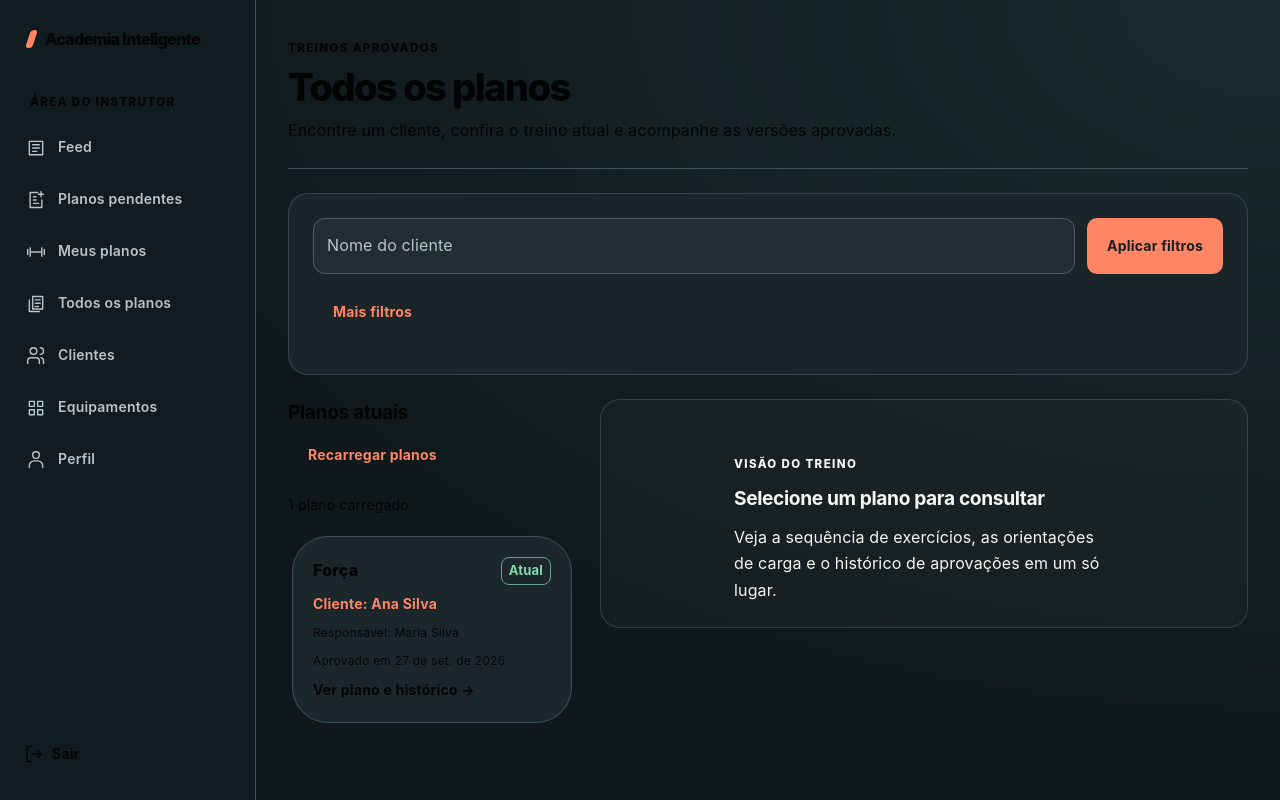
Test: cancel preserves draft and explicit confirmation sends the exact revision
Click the button with aria-label "Ver plano e histórico de Ana Silva" at {"x": 432, "y": 629}, box [292,536,572,723]
(page scrolled)
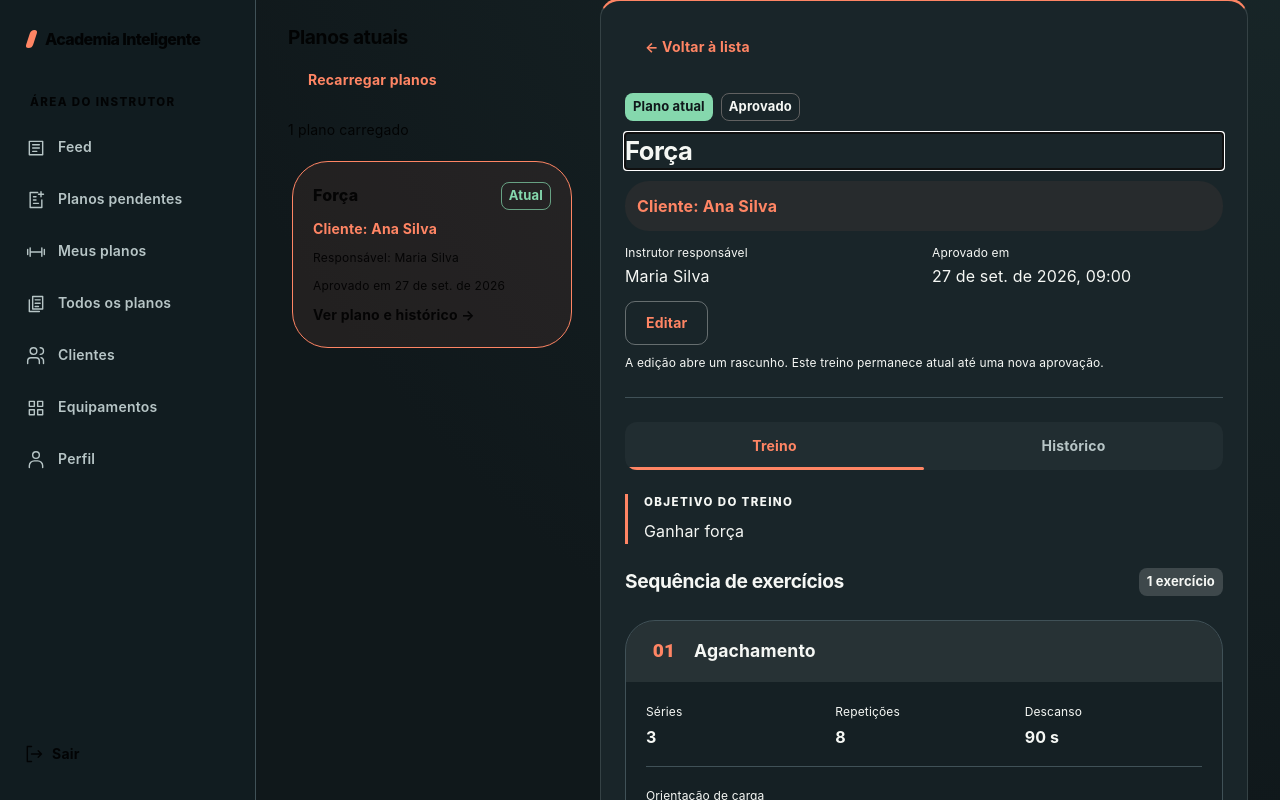
Click the button "Editar" at {"x": 667, "y": 323}, box [625,301,708,345]
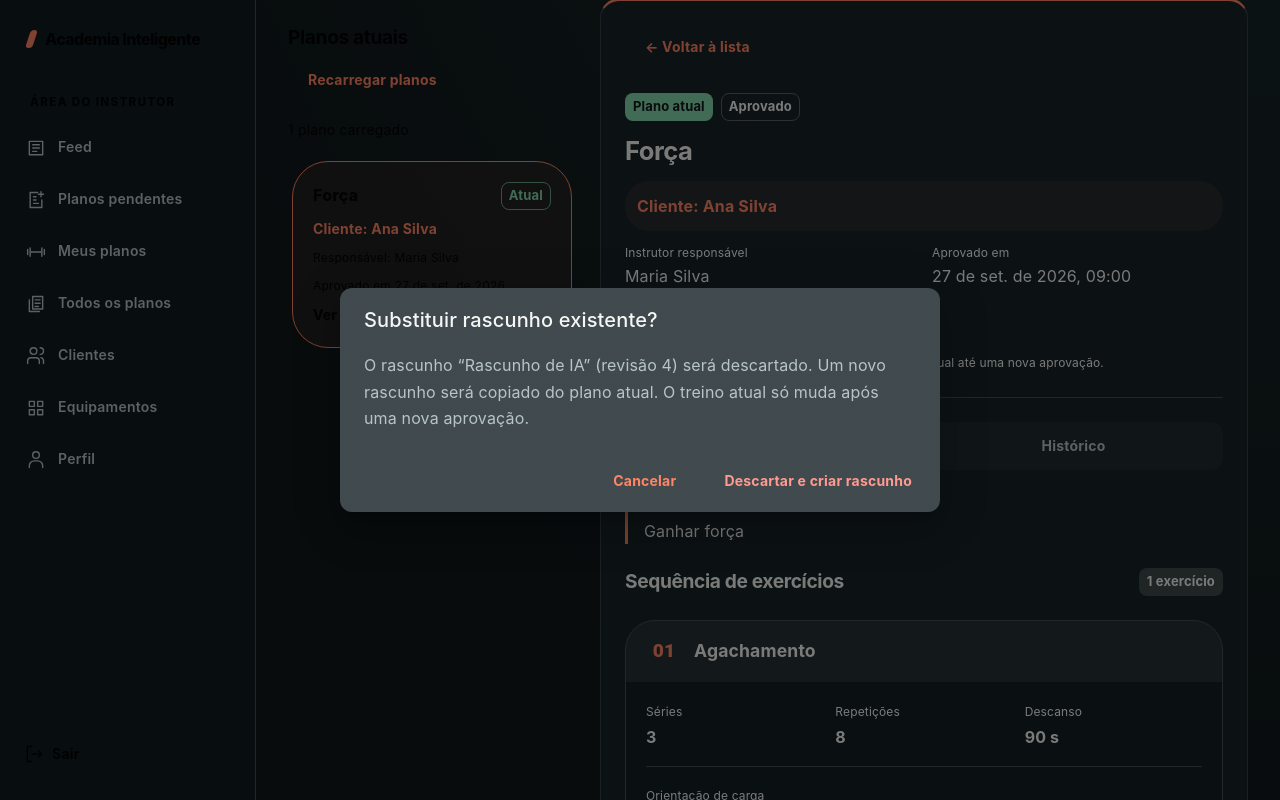
Now the dialog "Substituir rascunho existente?" is shown, box [340,288,940,512]
Click the button "Cancelar" at {"x": 645, "y": 482}, box [593,460,696,504]
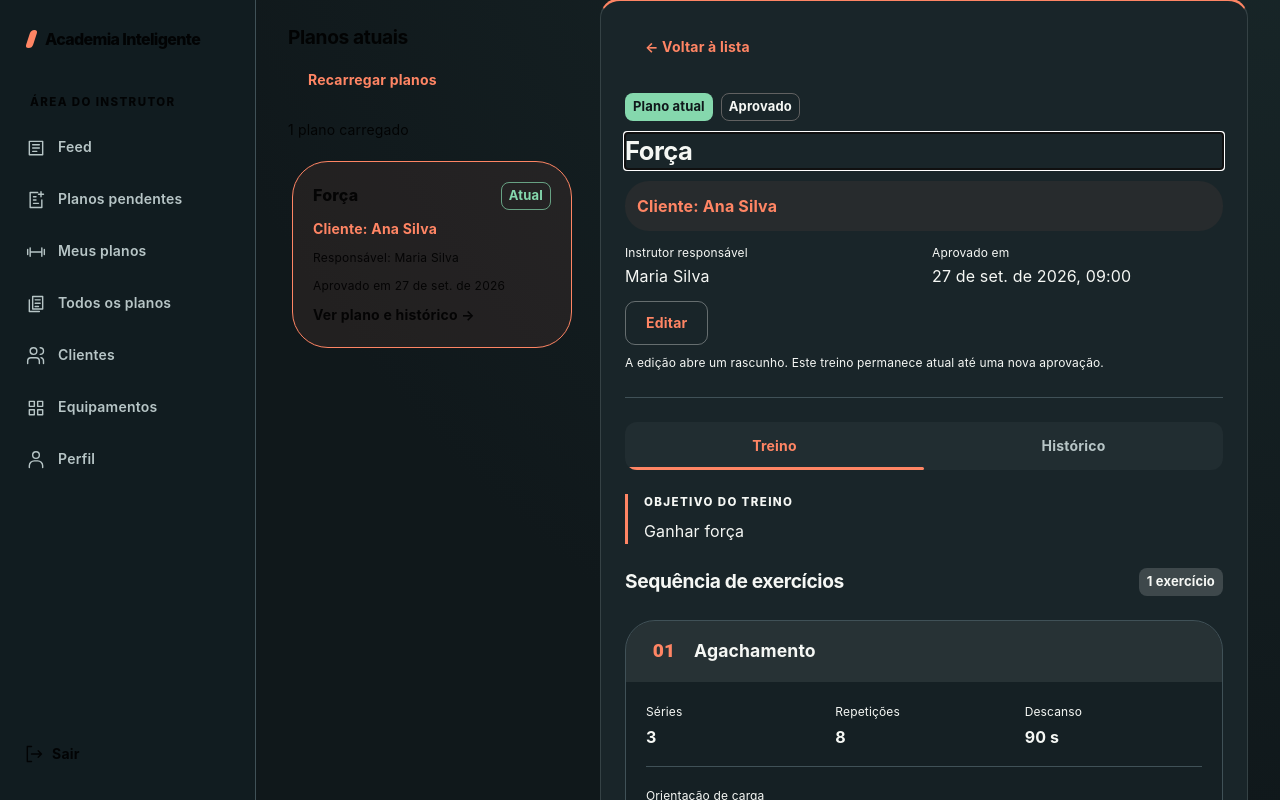
Now the dialog is gone
Click the button "Editar" at {"x": 667, "y": 323}, box [625,301,708,345]
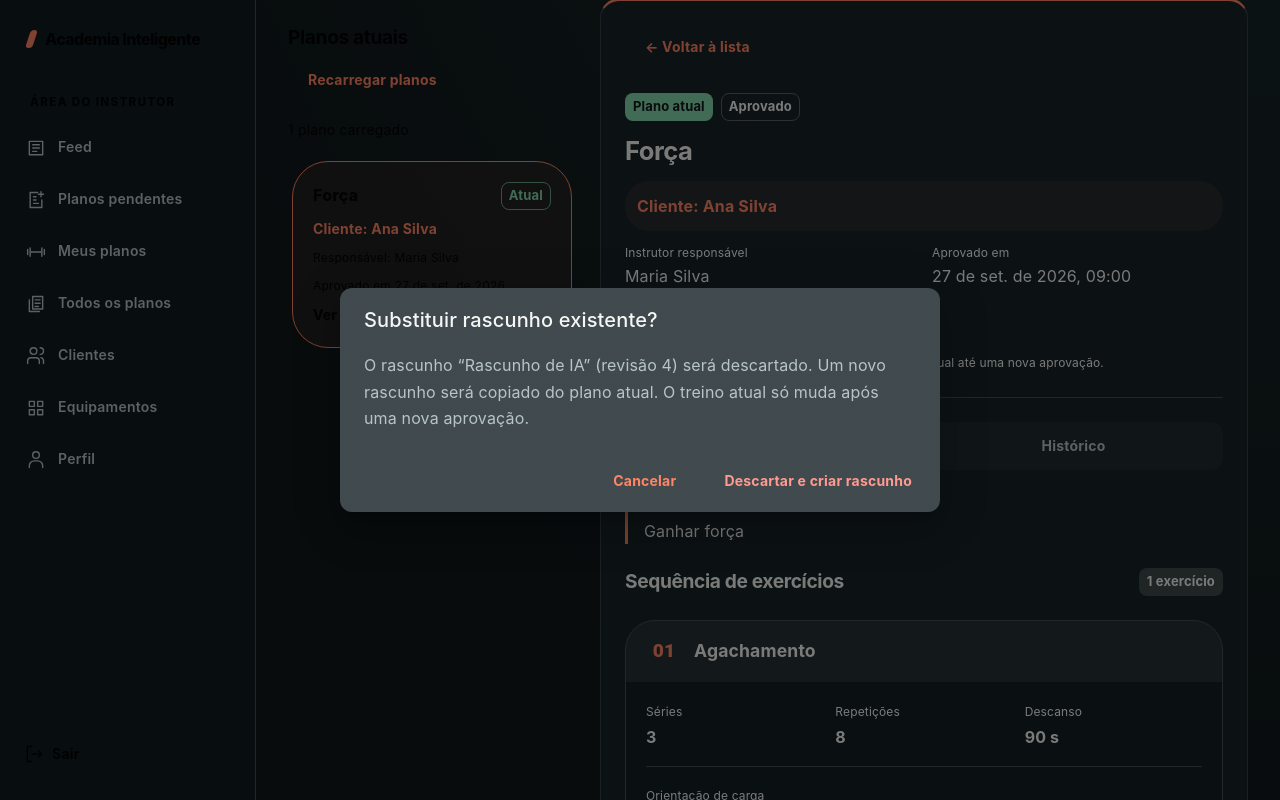
Click the button "Descartar e criar rascunho" at {"x": 818, "y": 482}, box [704,460,932,504]
(page scrolled)
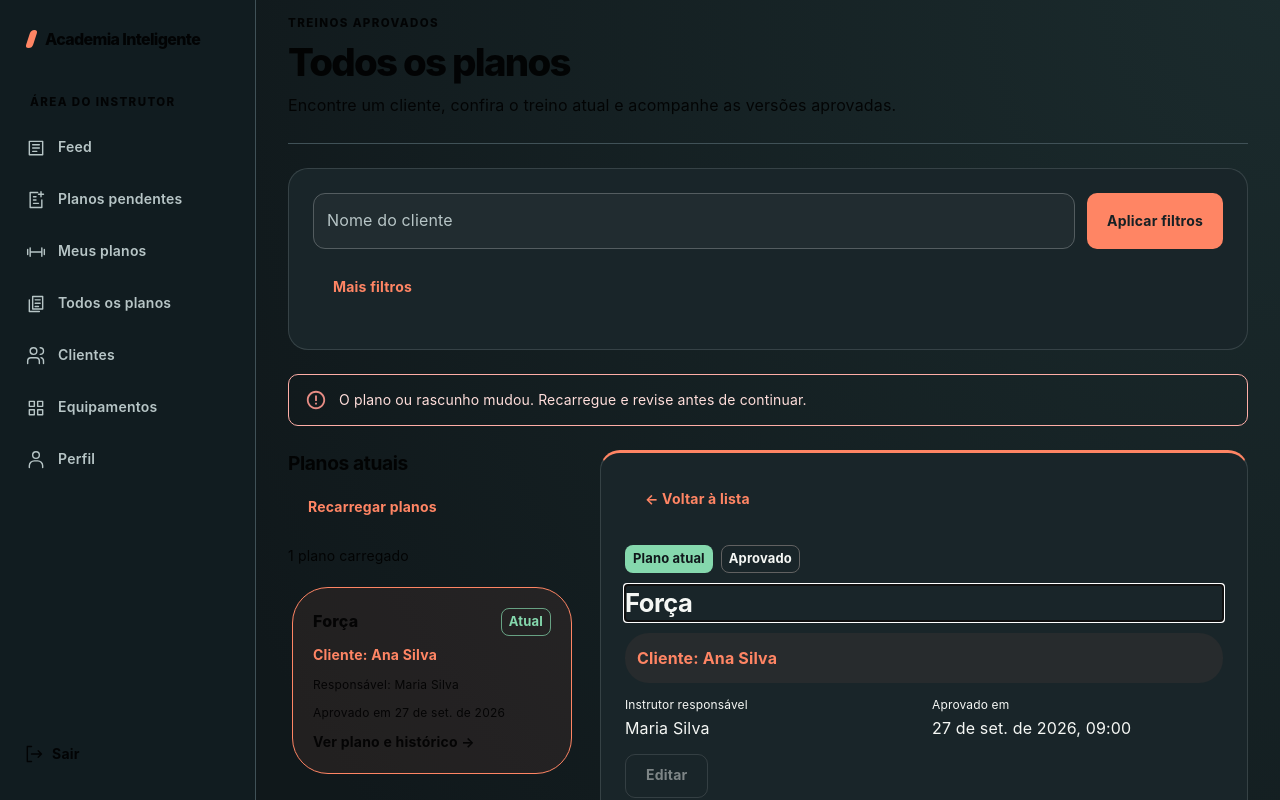
Now the text "O plano ou rascunho mudou. Recarregue e revise antes de continuar." is shown, box [339,391,807,408]
